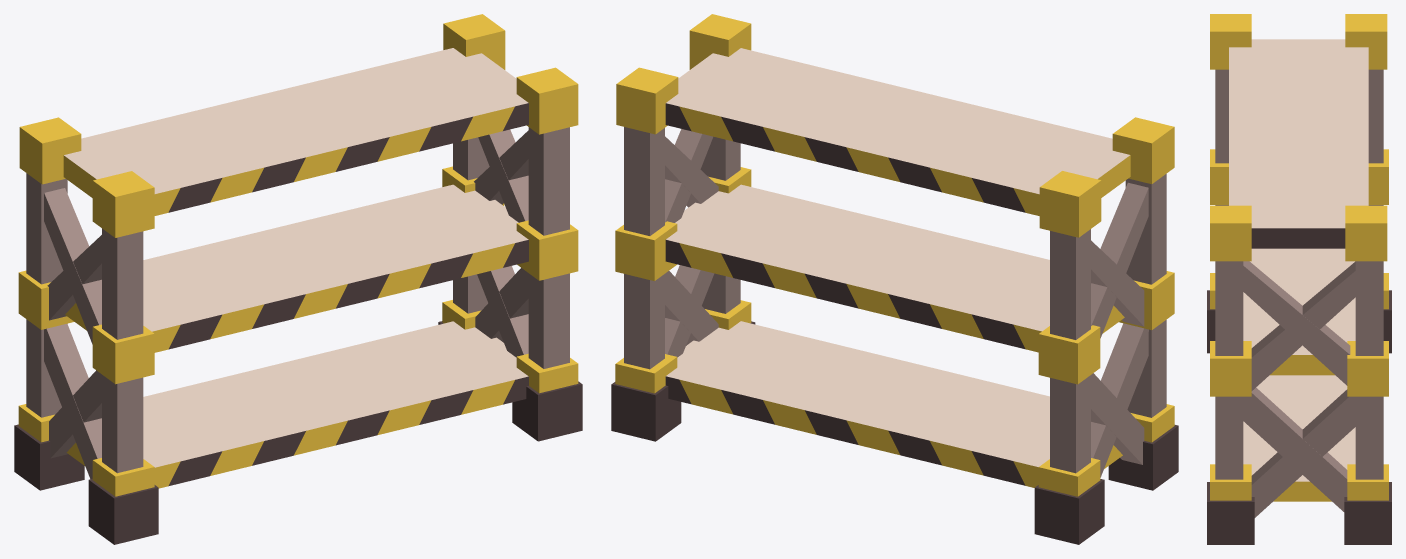
The model's file is Shelf.fbx.
3 renders of one model, left to right at view 1: azimuth 30°, elevation 25°; view 2: azimuth 150°, elevation 25°; view 3: azimuth 270°, elevation 25°, orthographic. The views are drawn at different scales.
Parts seen in each view (by area): view 1: Shelf; view 2: Shelf; view 3: Shelf.
Boxes of the visible parts, left/top/right/bottom form: Shelf: left=14, top=14, right=582, bottom=544; Shelf: left=611, top=14, right=1178, bottom=544; Shelf: left=1207, top=14, right=1391, bottom=544.
Size of the model in its own units: 179 by 127 by 66.16.
